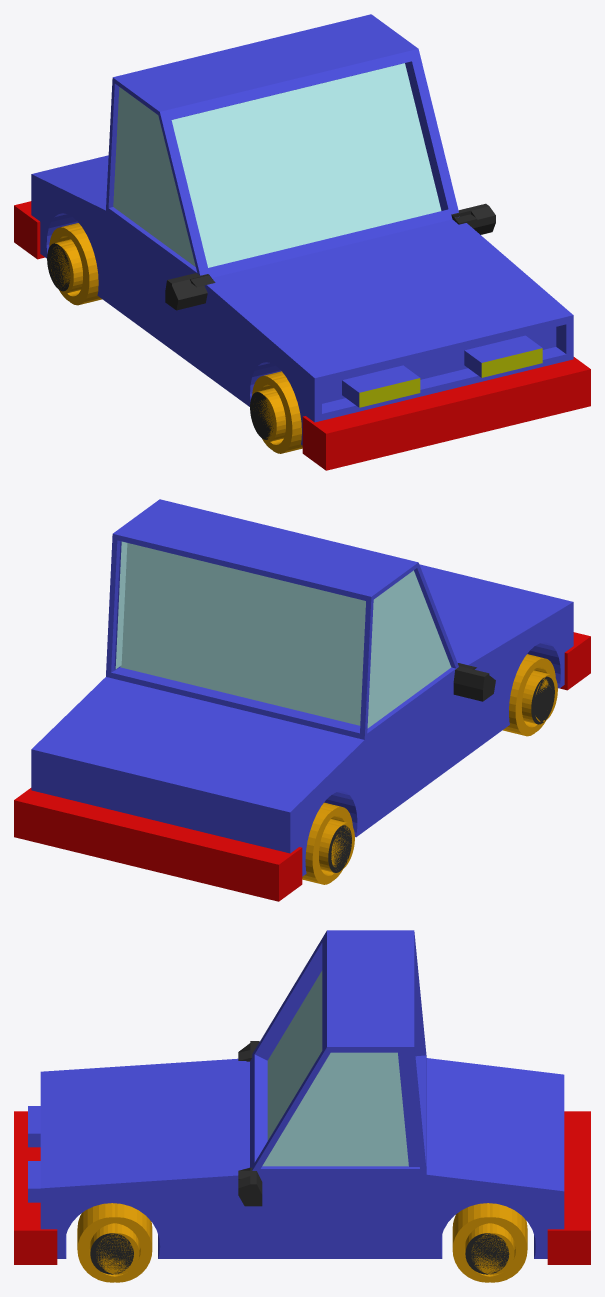
File: car.glb
3 renders of one model, top to bottom at view 1: azimuth 30°, elevation 25°; view 2: azimuth 150°, elevation 25°; view 3: azimuth 270°, elevation 25°, orthographic. The views are drawn at different scales.
Parts seen in each view (by area): view 1: car; view 2: car; view 3: car.
Boxes of the visible parts, left/top/right/bottom form: car: left=14, top=14, right=590, bottom=470; car: left=14, top=499, right=590, bottom=901; car: left=14, top=930, right=590, bottom=1282.
Size of the model in its own units: 2.96 by 2.26 by 5.04.
